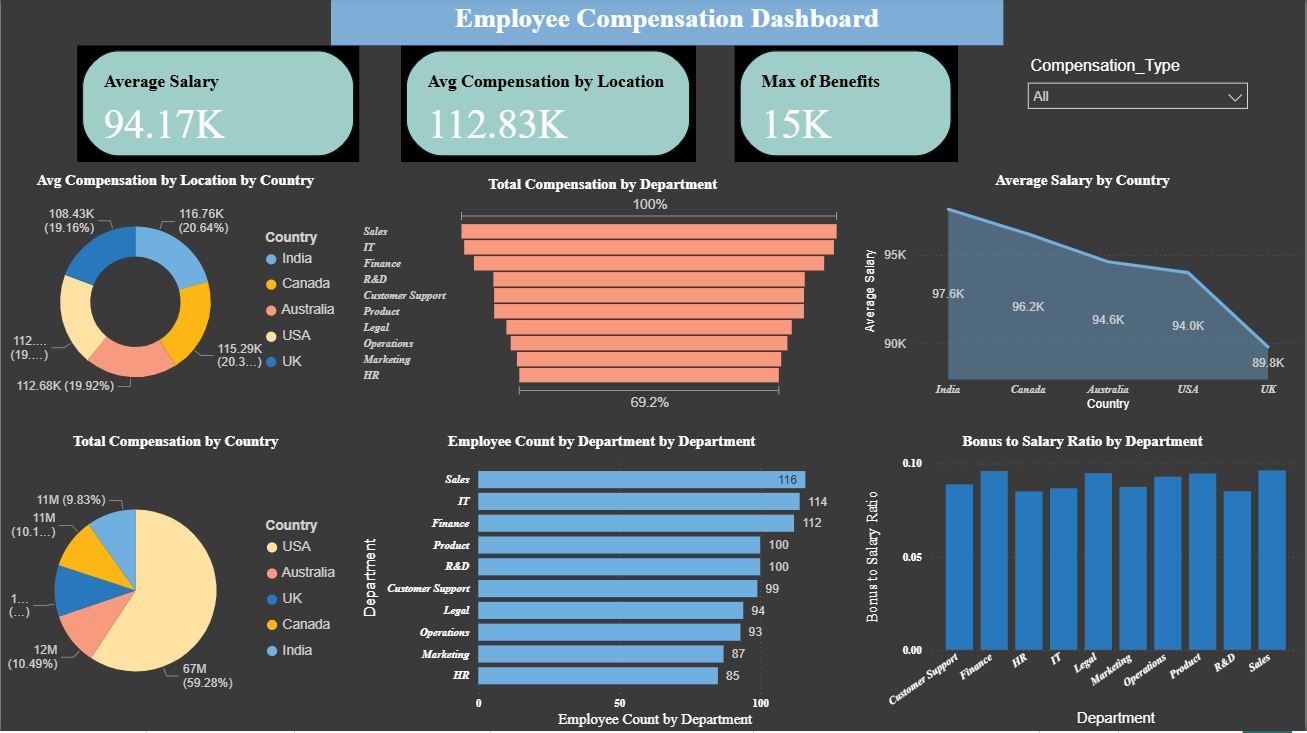

This screenshot's page, from the dashboard's own definition file:
{"tool":"powerbi","page":{"name":"Dashboard","canvas":[1280,720],"ordinal":6},"visuals":[{"type":"cardVisual","fields":{"Data":["employee_dataset_2018_2024.Avg Compensation by Location"]},"box":[392.7,47,289.4,114.5],"z":0},{"type":"cardVisual","fields":{"Data":["employee_dataset_2018_2024.Average Salary"]},"box":[74.7,47,277.1,114.5],"z":1000},{"type":"funnel","fields":{"Category":["employee_dataset_2018_2024.Department"],"Y":["employee_dataset_2018_2024.Total Compensation"]},"box":[351.4,174.8,479.6,235.2],"z":2000},{"type":"barChart","fields":{"Category":["employee_dataset_2018_2024.Department"],"Y":["employee_dataset_2018_2024.Employee Count by Department"]},"box":[351.4,426.5,477.7,293.8],"z":3000},{"type":"donutChart","fields":{"Y":["employee_dataset_2018_2024.Avg Compensation by Location"],"Category":["employee_dataset_2018_2024.Country"]},"box":[0,170.2,342.3,239.8],"z":4000},{"type":"stackedAreaChart","fields":{"Category":["employee_dataset_2018_2024.Country"],"Y":["employee_dataset_2018_2024.Average Salary"]},"box":[842.9,170.2,437.5,239.8],"z":5000},{"type":"cardVisual","fields":{"Data":["Max(employee_dataset_2018_2024.Benefits)"]},"box":[720,47,218.9,114.5],"z":6000},{"type":"pieChart","fields":{"Category":["employee_dataset_2018_2024.Country"],"Y":["employee_dataset_2018_2024.Total Compensation"]},"box":[0,426.5,342.6,293.5],"z":7000},{"type":"slicer","fields":{"Values":["employee_dataset_2018_2024.Compensation_Type"]},"box":[997.1,52.2,236.2,104.3],"z":8000},{"type":"textbox","box":[324,0,659.9,46.7],"z":9000},{"type":"lineStackedColumnComboChart","fields":{"Category":["employee_dataset_2018_2024.Department","employee_dataset_2018_2024.Country"],"Y":["employee_dataset_2018_2024.Bonus to Salary Ratio"]},"box":[842.9,426.5,437.5,292.9],"z":10000}]}

Visuals, with their boxes in screenshot pixels (x1, y1, x2, y2), scaled from the page's 1280x720 canvas onto the 1307x733 screenshot:
cardVisual - employee_dataset_2018_2024.Avg Compensation by Location: box(401, 48, 696, 164)
cardVisual - employee_dataset_2018_2024.Average Salary: box(76, 48, 359, 164)
funnel - employee_dataset_2018_2024.Department x employee_dataset_2018_2024.Total Compensation: box(359, 178, 849, 417)
barChart - employee_dataset_2018_2024.Department x employee_dataset_2018_2024.Employee Count by Department: box(359, 434, 847, 732)
donutChart - employee_dataset_2018_2024.Avg Compensation by Location x employee_dataset_2018_2024.Country: box(0, 173, 350, 417)
stackedAreaChart - employee_dataset_2018_2024.Country x employee_dataset_2018_2024.Average Salary: box(861, 173, 1306, 417)
cardVisual - Max(employee_dataset_2018_2024.Benefits): box(735, 48, 959, 164)
pieChart - employee_dataset_2018_2024.Country x employee_dataset_2018_2024.Total Compensation: box(0, 434, 350, 732)
slicer - employee_dataset_2018_2024.Compensation_Type: box(1018, 53, 1259, 159)
textbox: box(331, 0, 1005, 48)
lineStackedColumnComboChart - employee_dataset_2018_2024.Department x employee_dataset_2018_2024.Country: box(861, 434, 1306, 732)
